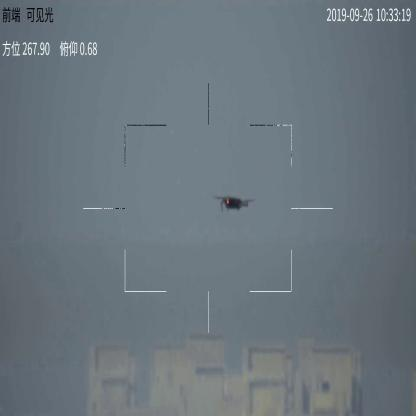uav: (214, 193, 256, 214)
